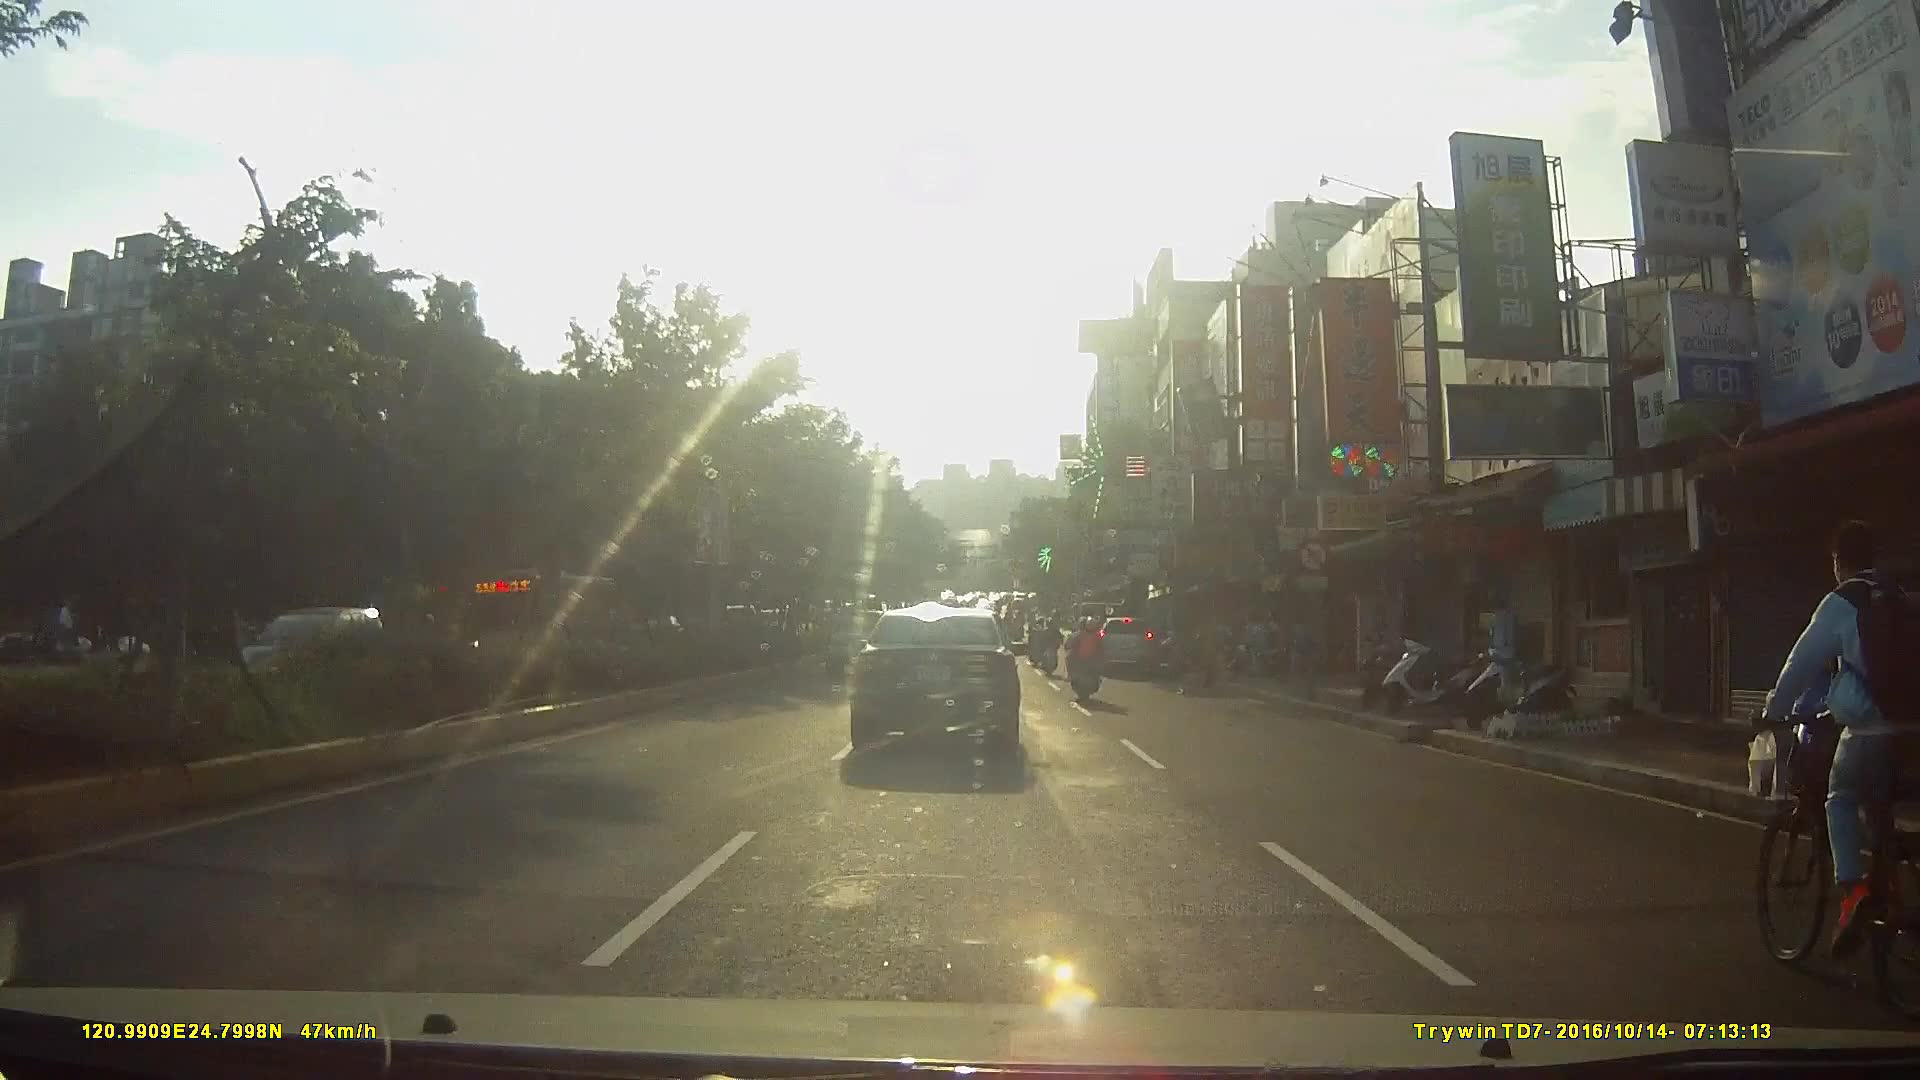pedestrian: (1481, 587, 1522, 685)
rider: (1742, 522, 1920, 1029), (1063, 613, 1107, 709), (1034, 614, 1064, 681)
vehicle: (845, 593, 1041, 767), (1090, 607, 1163, 674)
